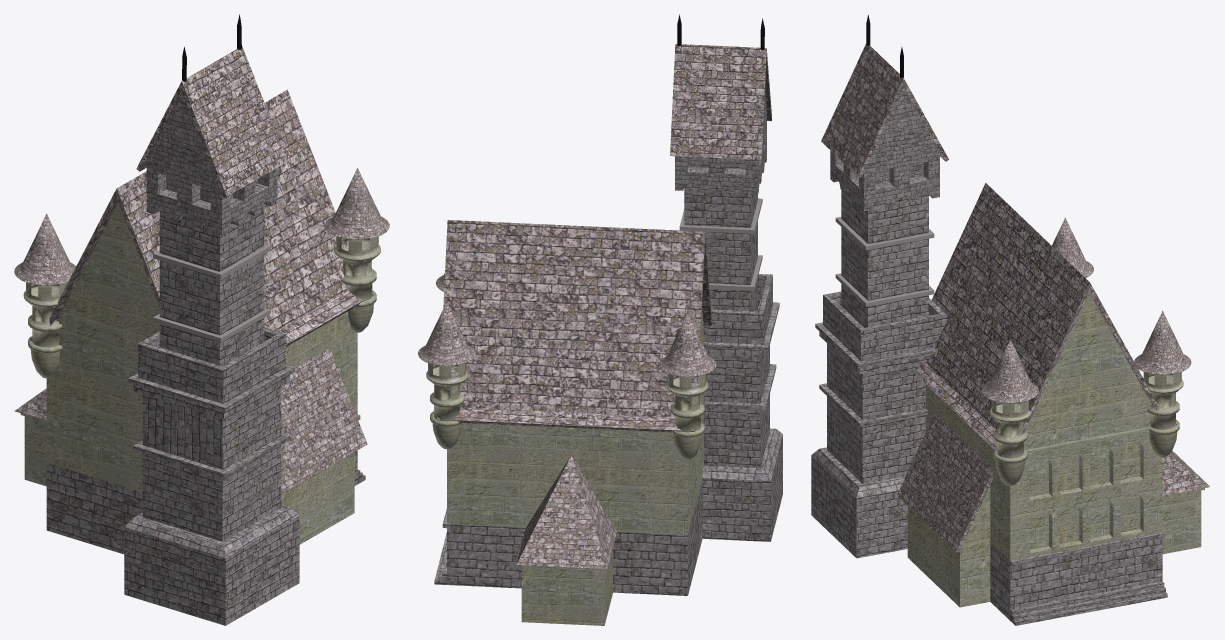
File: monastery.fbx
3 renders of one model, left to right at view 1: azimuth 30°, elevation 25°; view 2: azimuth 150°, elevation 25°; view 3: azimuth 270°, elevation 25°, orthographic. The views are drawn at different scales.
Visible parts, largest first — view 1: obj74_Material__22, strechy, obj66_mat66, obj87_Material__22, obj70_Material__22, vezicky_zdi, obj72_Material__22, obj71_Material__22, obj81_Material__22, obj83_Material__22; view 2: strechy, obj74_Material__22, obj66_mat66, obj70_Material__22, obj71_Material__22, vezicky_zdi, obj87_Material__22, obj81_Material__22; view 3: strechy, obj74_Material__22, obj66_mat66, obj70_Material__22, obj87_Material__22, obj72_Material__22, vezicky_zdi, obj71_Material__22, obj83_Material__22, obj81_Material__22.
Boxes of the visible parts, x1,y1,x2,y2 form: obj74_Material__22: [124, 204, 299, 625]; strechy: [14, 46, 389, 493]; obj66_mat66: [46, 202, 357, 492]; obj87_Material__22: [146, 93, 277, 234]; obj70_Material__22: [46, 414, 365, 554]; vezicky_zdi: [23, 236, 380, 378]; obj72_Material__22: [281, 452, 354, 544]; obj71_Material__22: [20, 413, 46, 486]; obj81_Material__22: [153, 244, 270, 278]; obj83_Material__22: [153, 308, 270, 342]; strechy: [418, 44, 771, 568]; obj74_Material__22: [684, 183, 782, 541]; obj66_mat66: [447, 308, 703, 535]; obj70_Material__22: [434, 479, 702, 595]; obj71_Material__22: [521, 550, 612, 625]; vezicky_zdi: [426, 363, 708, 459]; obj87_Material__22: [675, 90, 766, 194]; obj81_Material__22: [679, 198, 762, 233]; strechy: [821, 43, 1209, 552]; obj74_Material__22: [811, 190, 947, 558]; obj66_mat66: [925, 292, 1162, 560]; obj70_Material__22: [990, 532, 1167, 625]; obj87_Material__22: [830, 87, 939, 211]; obj72_Material__22: [907, 485, 990, 607]; vezicky_zdi: [989, 372, 1183, 485]; obj71_Material__22: [1162, 488, 1204, 554]; obj83_Material__22: [835, 273, 934, 306]; obj81_Material__22: [835, 217, 934, 250].
Bounding box in the file's own units: 3.37 × 5.36 × 3.9.
Materials: 7 (3 with a texture image).
